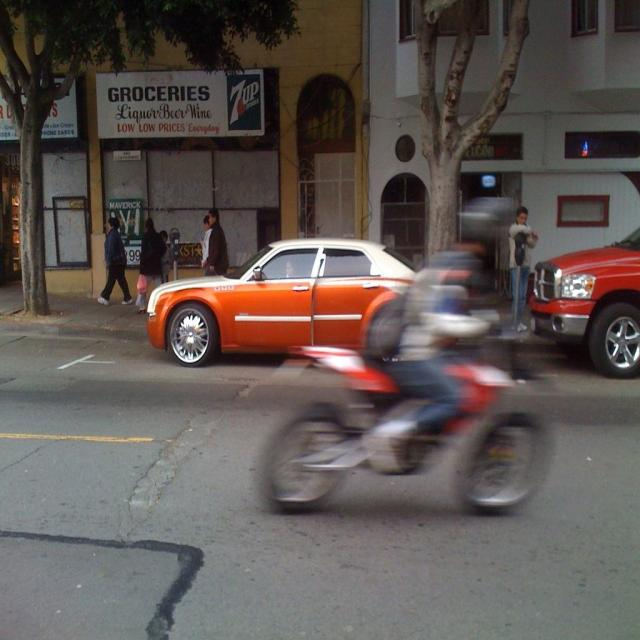car: (145, 232, 420, 369)
